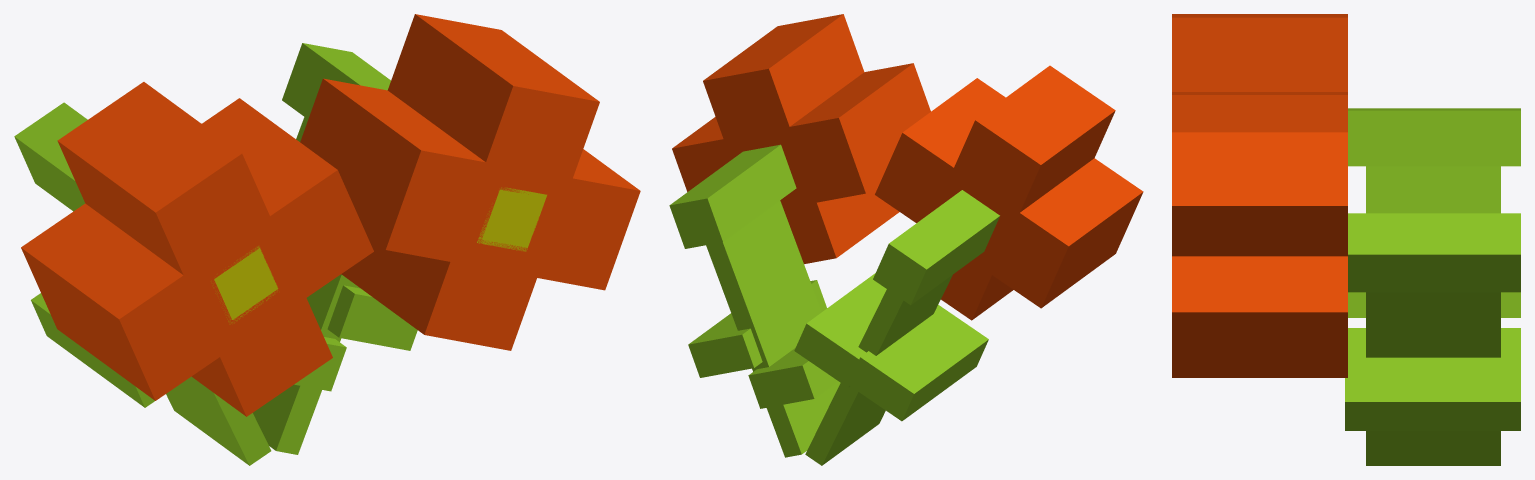
File: Red Flowers.fbx
The picture shows the model from 3 angles, left to right: view 1: azimuth 30°, elevation 25°; view 2: azimuth 150°, elevation 25°; view 3: azimuth 270°, elevation 25°; orthographic projection. The views are drawn at different scales.
Visible parts, largest first — view 1: polySurface8; view 2: polySurface8; view 3: polySurface8.
Boxes of the visible parts, x1,y1,x2,y2 form: polySurface8: (14,14,640,465); polySurface8: (669,14,1143,465); polySurface8: (1172,14,1520,465).
Bounding box in the file's own units: 2.11 × 1.63 × 1.37.
